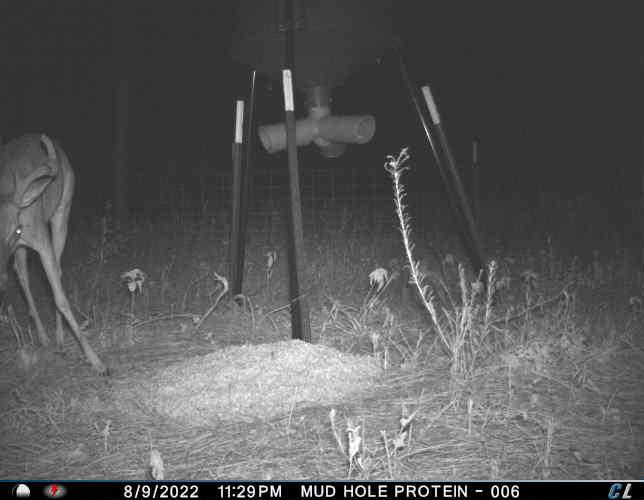Deer: (0, 131, 109, 378)
